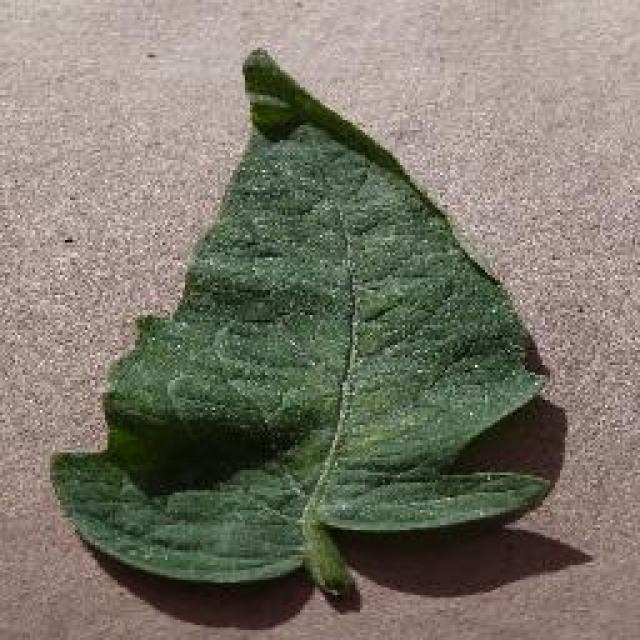Tomato___Spider_mites Two-spotted_spider_mite: (52, 50, 548, 592)
